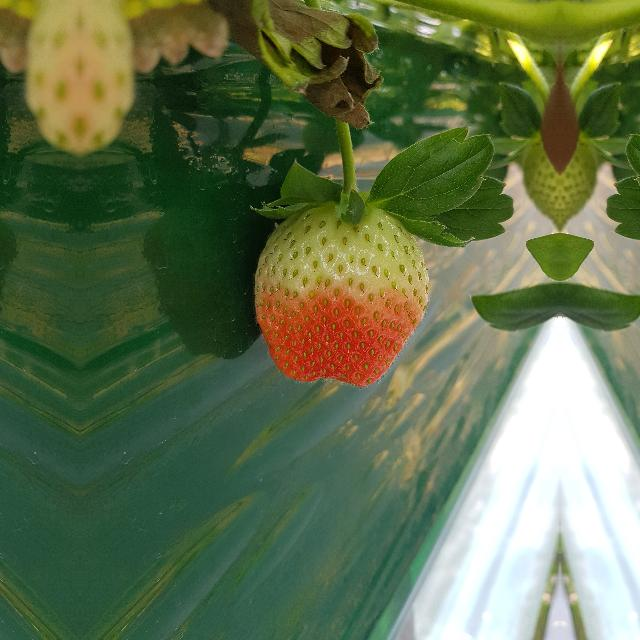Health_75: (253, 200, 429, 388)
